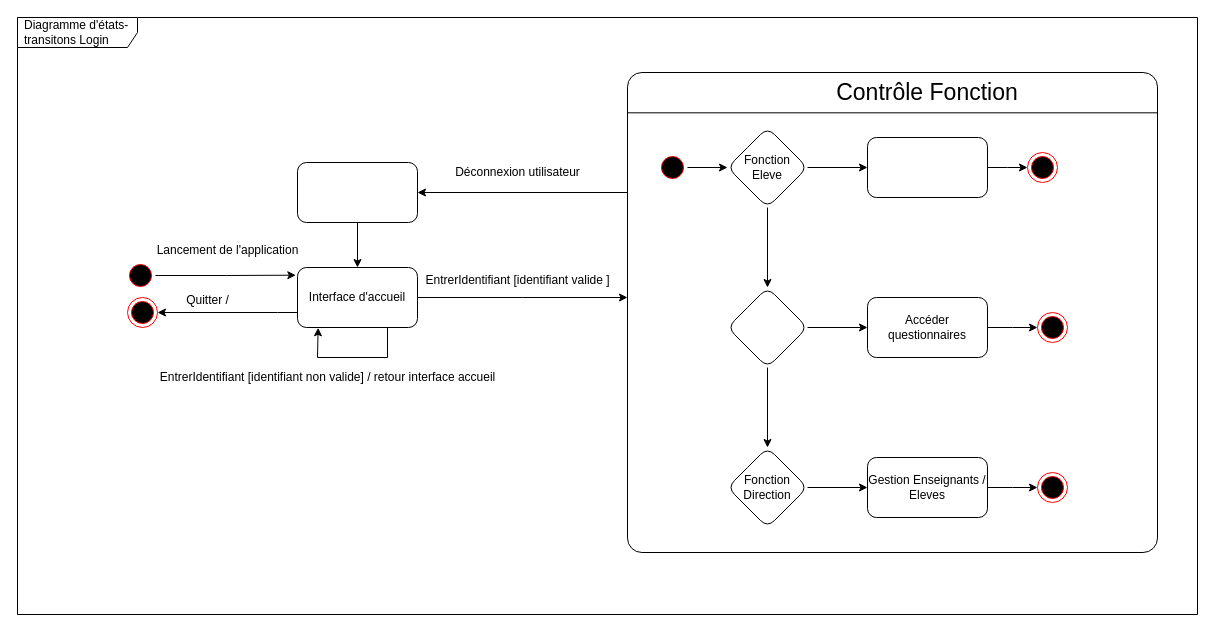
This 1215x632 diagram has some shape labels left out. The centre of each missing label's shape, as x and y in pixels:
"Déconnexion" goes at point 357,192.
"Fonction Enseignant" goes at point 767,327.
"Remplir questionnaires" goes at point 927,167.
